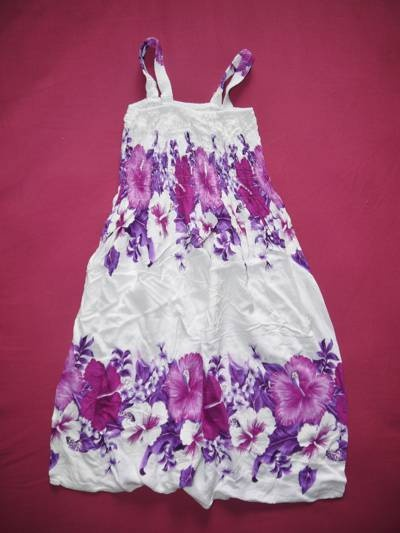Dress: (32, 46, 371, 512)
